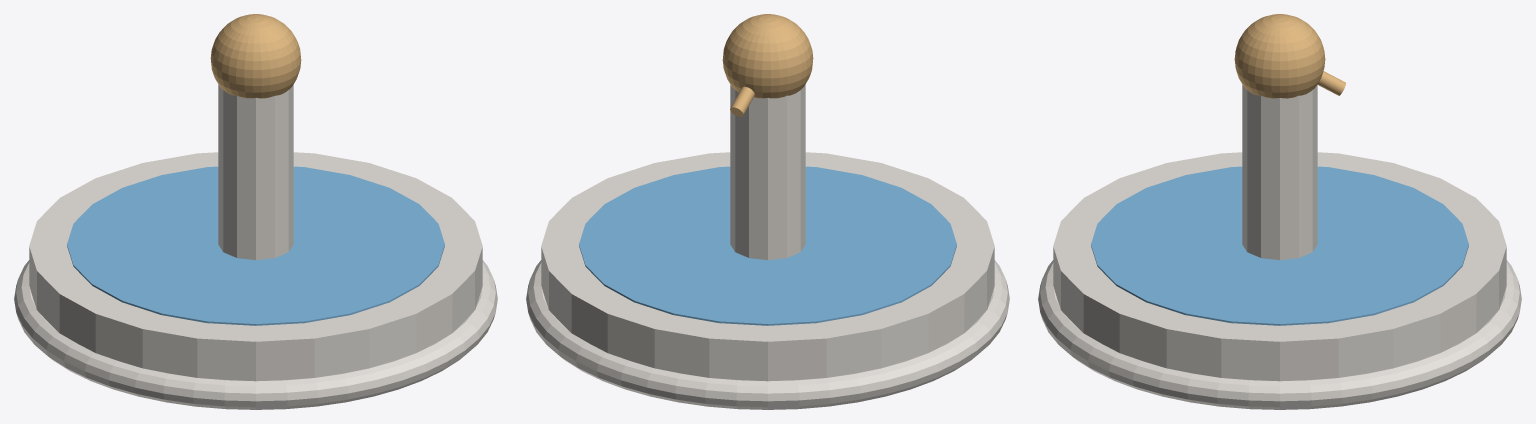
Rendered from fountain.glb.
3 renders of one model, left to right at view 1: azimuth 30°, elevation 25°; view 2: azimuth 150°, elevation 25°; view 3: azimuth 270°, elevation 25°, orthographic.
Visible parts, largest first — view 1: Cylinder.001, Cylinder, Torus, Cylinder.002, Sphere; view 2: Cylinder.001, Cylinder, Torus, Cylinder.002, Sphere, Cylinder.003; view 3: Cylinder.001, Cylinder, Torus, Cylinder.002, Sphere.
Part boxes in pixels (left/top/right/bottom): Cylinder.001: left=67, top=166, right=444, bottom=325; Cylinder: left=29, top=152, right=482, bottom=381; Torus: left=14, top=260, right=497, bottom=409; Cylinder.002: left=218, top=84, right=293, bottom=260; Sphere: left=210, top=14, right=301, bottom=98; Cylinder.001: left=579, top=166, right=956, bottom=325; Cylinder: left=541, top=152, right=994, bottom=381; Torus: left=526, top=260, right=1009, bottom=409; Cylinder.002: left=730, top=84, right=805, bottom=260; Sphere: left=722, top=14, right=813, bottom=98; Cylinder.003: left=730, top=86, right=754, bottom=116; Cylinder.001: left=1091, top=166, right=1468, bottom=325; Cylinder: left=1053, top=152, right=1506, bottom=381; Torus: left=1038, top=260, right=1521, bottom=409; Cylinder.002: left=1242, top=84, right=1317, bottom=260; Sphere: left=1234, top=14, right=1325, bottom=98.
Bounding box in the file's own units: 1.28 × 0.86 × 1.28.
